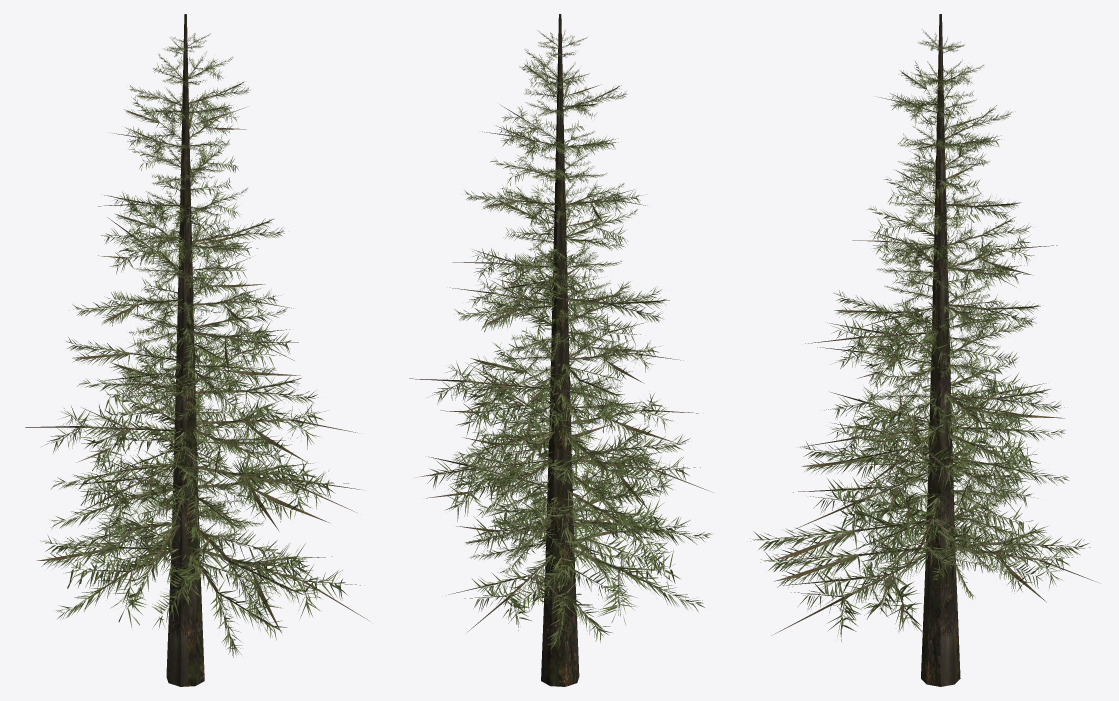
File: fir_b.glb
The picture shows the model from 3 angles, left to right: view 1: azimuth 30°, elevation 25°; view 2: azimuth 150°, elevation 25°; view 3: azimuth 270°, elevation 25°; orthographic projection.
Parts seen in each view (by area): view 1: fir_b; view 2: fir_b; view 3: fir_b.
Boxes of the visible parts, x1,y1,x2,y2 form: fir_b: [25, 14, 368, 686]; fir_b: [409, 14, 713, 686]; fir_b: [750, 14, 1098, 686].
Bounding box in the file's own units: 7.99 × 17 × 8.34.
Materials: 2 (2 with a texture image).
